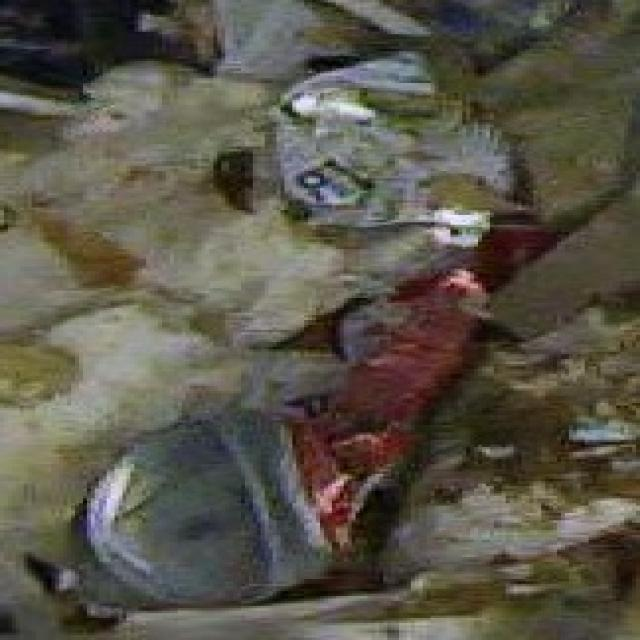can: (70, 265, 446, 574)
